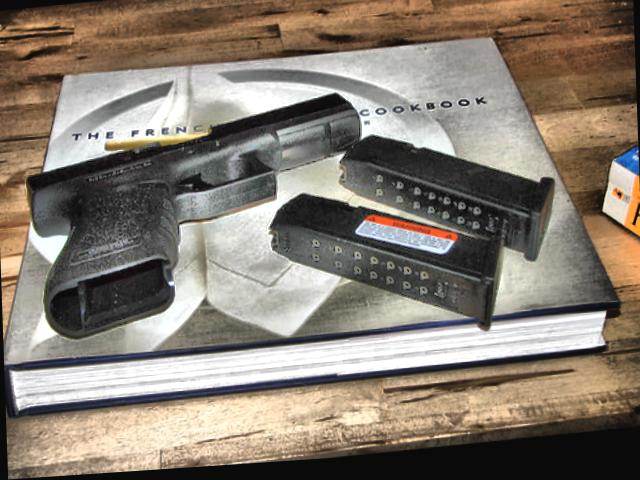pistol: (21, 92, 364, 340)
